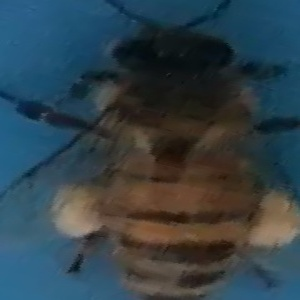bee: (23, 2, 298, 300)
